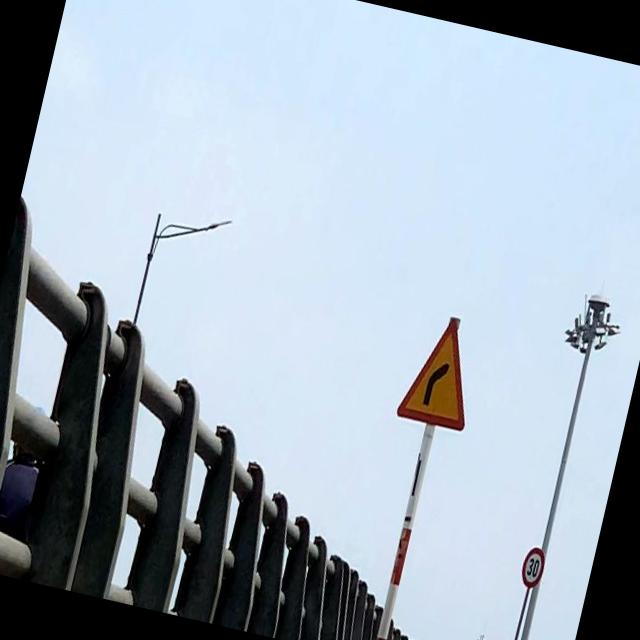P-127: (518, 542, 548, 588)
W-201b: (394, 304, 488, 436)
